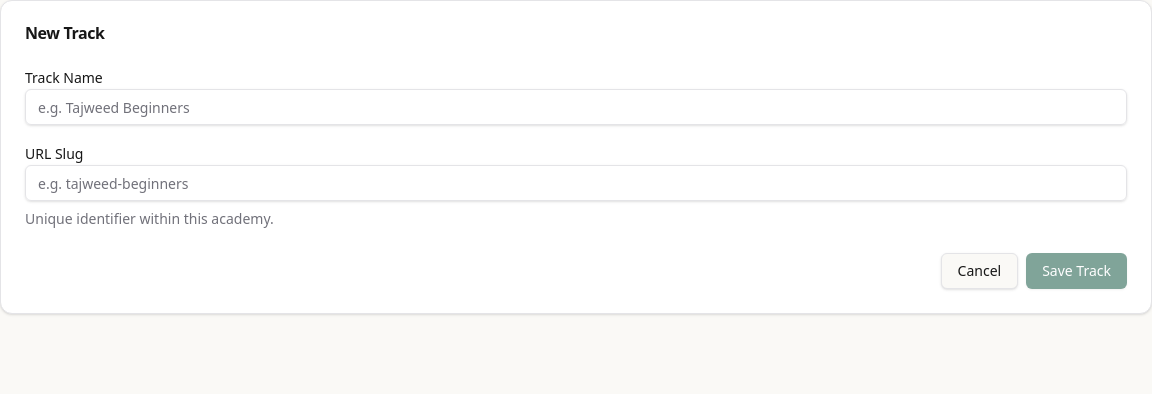
Test case: Curriculum Feature › TrackForm › handles validation error
Type "Tajweed" into the field labelled "Track Name" at coordinates (576, 107), box [25,89,1127,125]
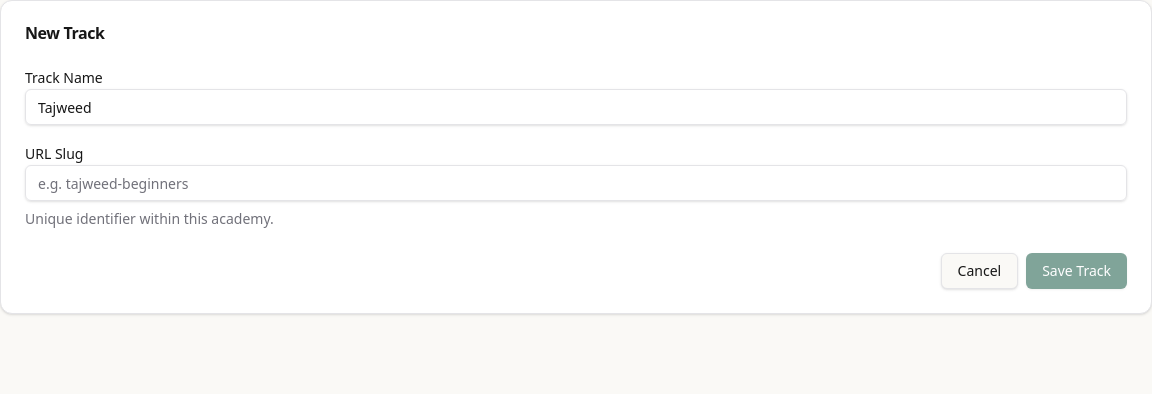
Type "tajweed" into the field labelled "URL Slug" at coordinates (576, 183), box [25,165,1127,201]
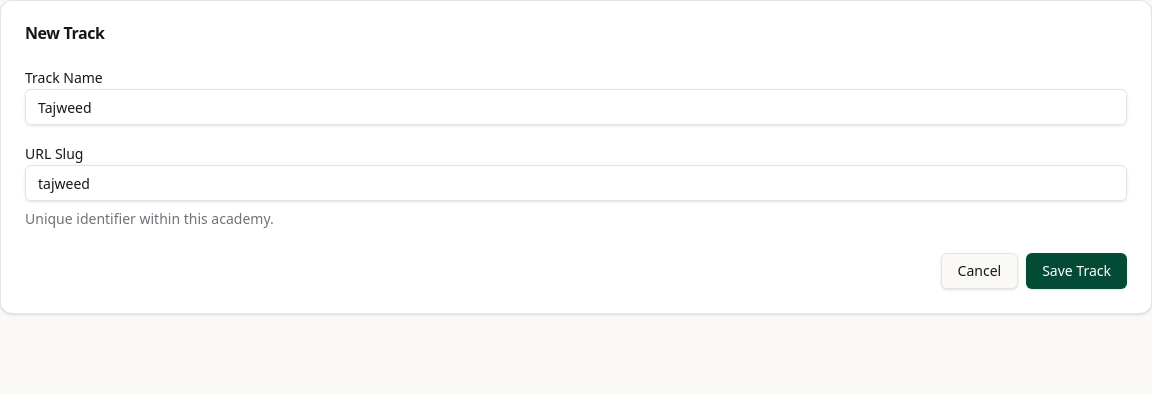
Click the button "Save Track" at coordinates (1077, 271), box [1026,253,1127,289]
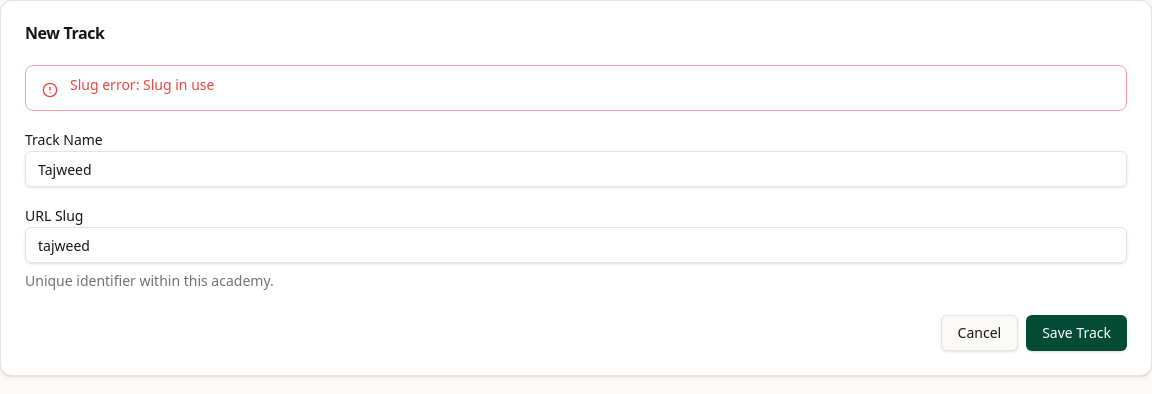
Now the text "Slug error: Slug in use" is shown, box [70,75,214,94]
